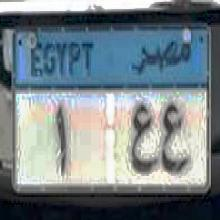1: (55, 103, 68, 173)
ain: (132, 99, 156, 175), (162, 99, 184, 175)
